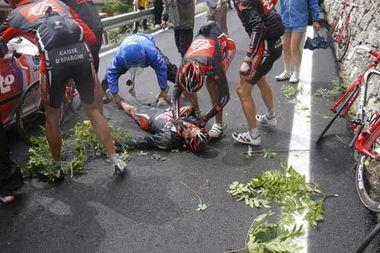Fall-Detected: (107, 84, 219, 159)
